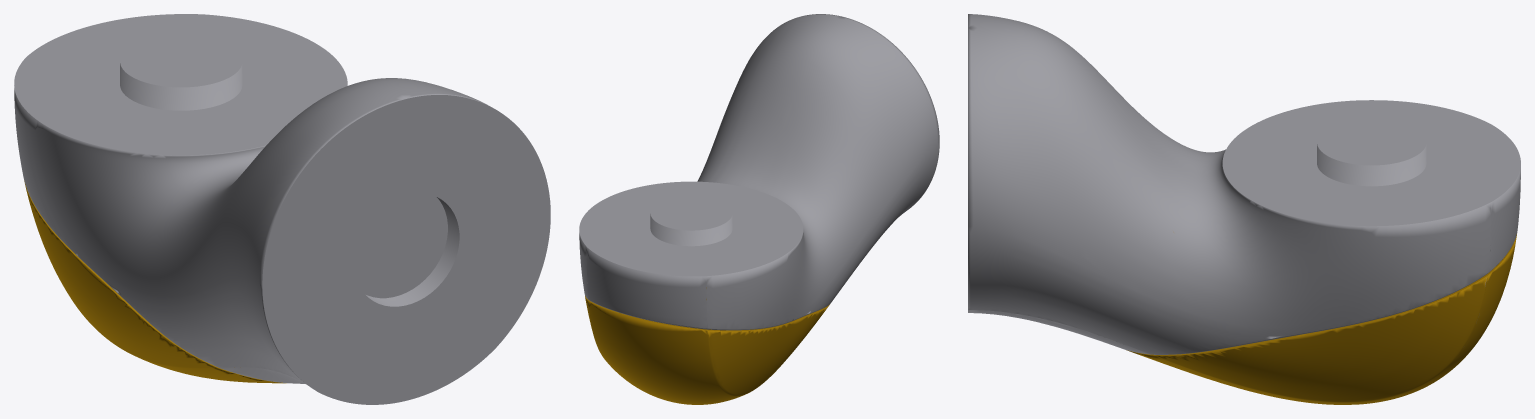
3 renders of one model, left to right at view 1: azimuth 30°, elevation 25°; view 2: azimuth 150°, elevation 25°; view 3: azimuth 270°, elevation 25°, orthographic. The views are drawn at different scales.
Visible parts, largest first — view 1: node0.001_Mesh.000; view 2: node0.001_Mesh.000; view 3: node0.001_Mesh.000.
Part boxes in pixels (bbox=[...]): node0.001_Mesh.000: bbox=[14, 14, 550, 404]; node0.001_Mesh.000: bbox=[579, 14, 939, 404]; node0.001_Mesh.000: bbox=[968, 14, 1520, 404].
Size of the model in its own units: 0.136 by 0.1826 by 0.252.
